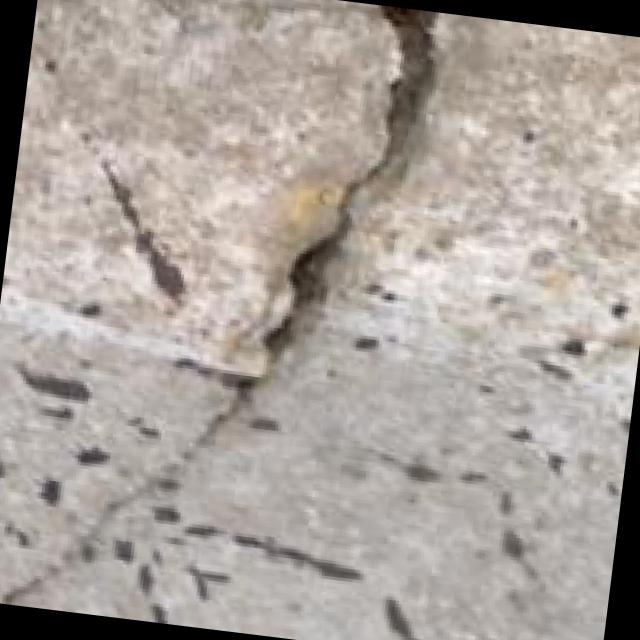crack: (163, 0, 502, 528)
